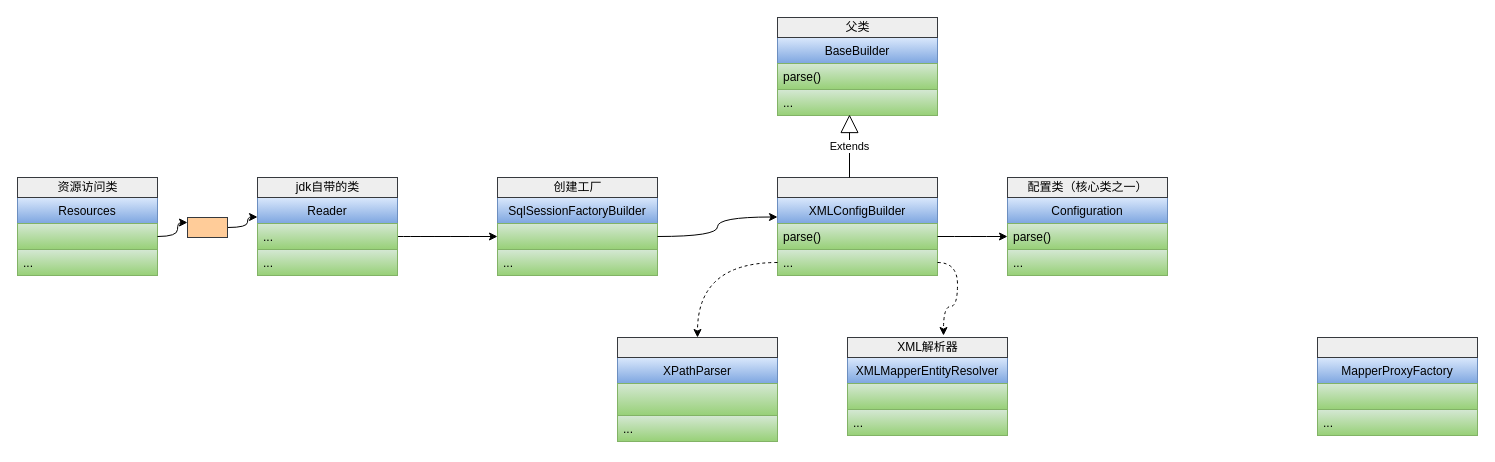
Some shapes in this 1495 by 462 pixel diagram are drawn without their labels. The centre of each missing label's shape, as x and y in pixels:
"build()" belongs at point (577, 236).
"getResourceAsReader()" belongs at point (87, 236).
"XML配置创建" belongs at point (857, 187).
"获取" belongs at point (207, 227).
